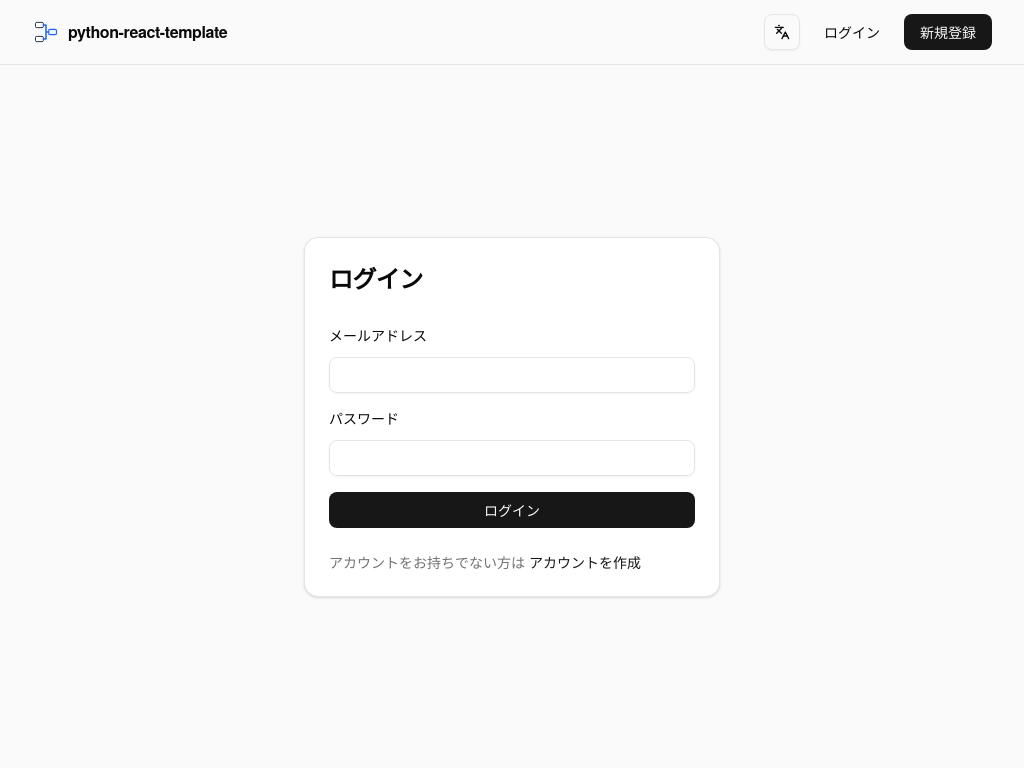
Test: login の 5xx を画面上のエラーとして表示する
Type "user@example.com" into the field labelled "メールアドレス".
click(512, 375); type("user@example.com")  # box [329, 357, 695, 393]
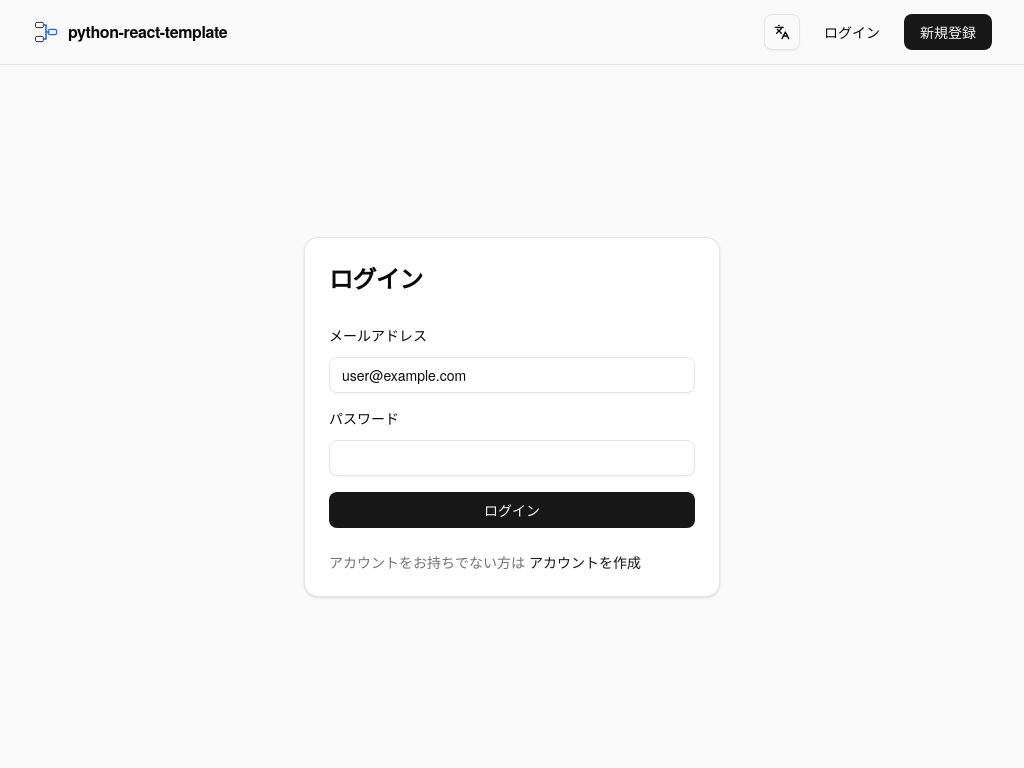
Type "Password123!" into the password field labelled "パスワード".
click(512, 458); type("Password123!")  # box [329, 440, 695, 476]
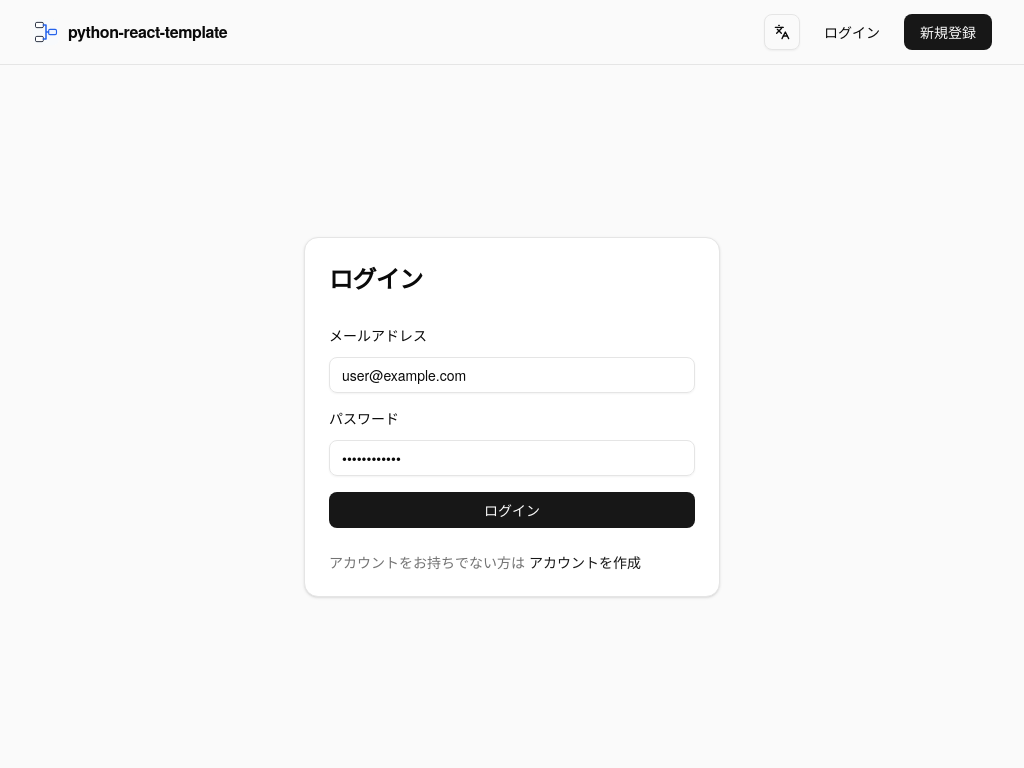
Click the button "ログイン".
click(512, 510)  # box [329, 492, 695, 528]
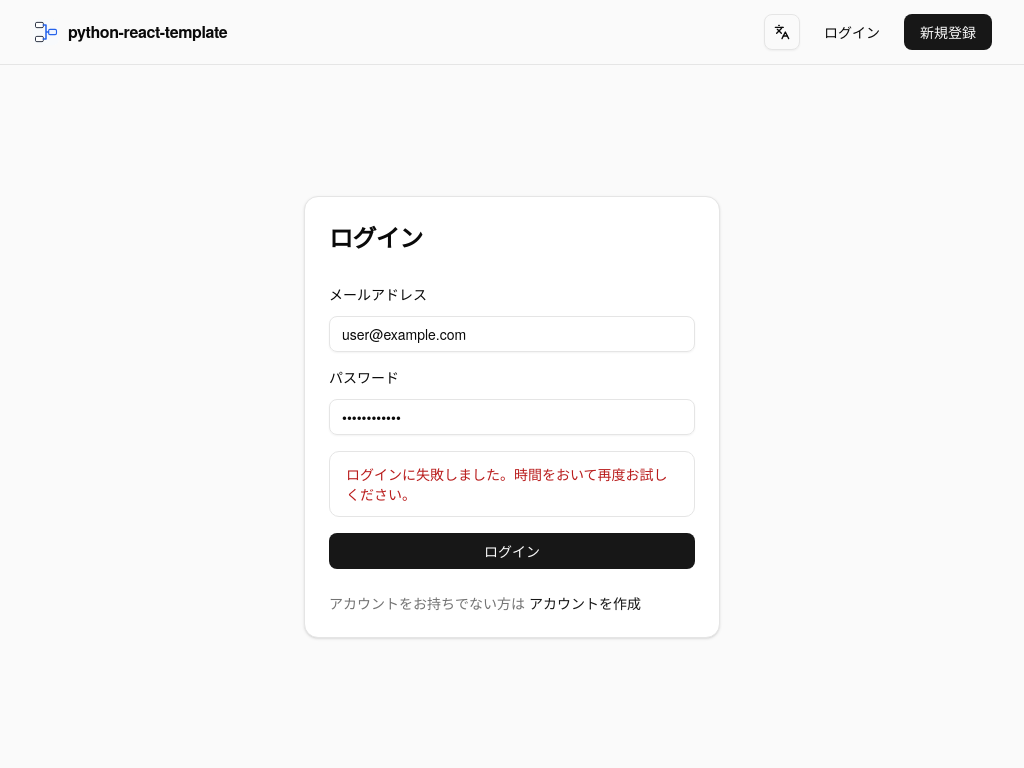
Expected: the message reads "ログインに失敗しました。時間をおいて再度お試しください。", [346, 464, 668, 504]
